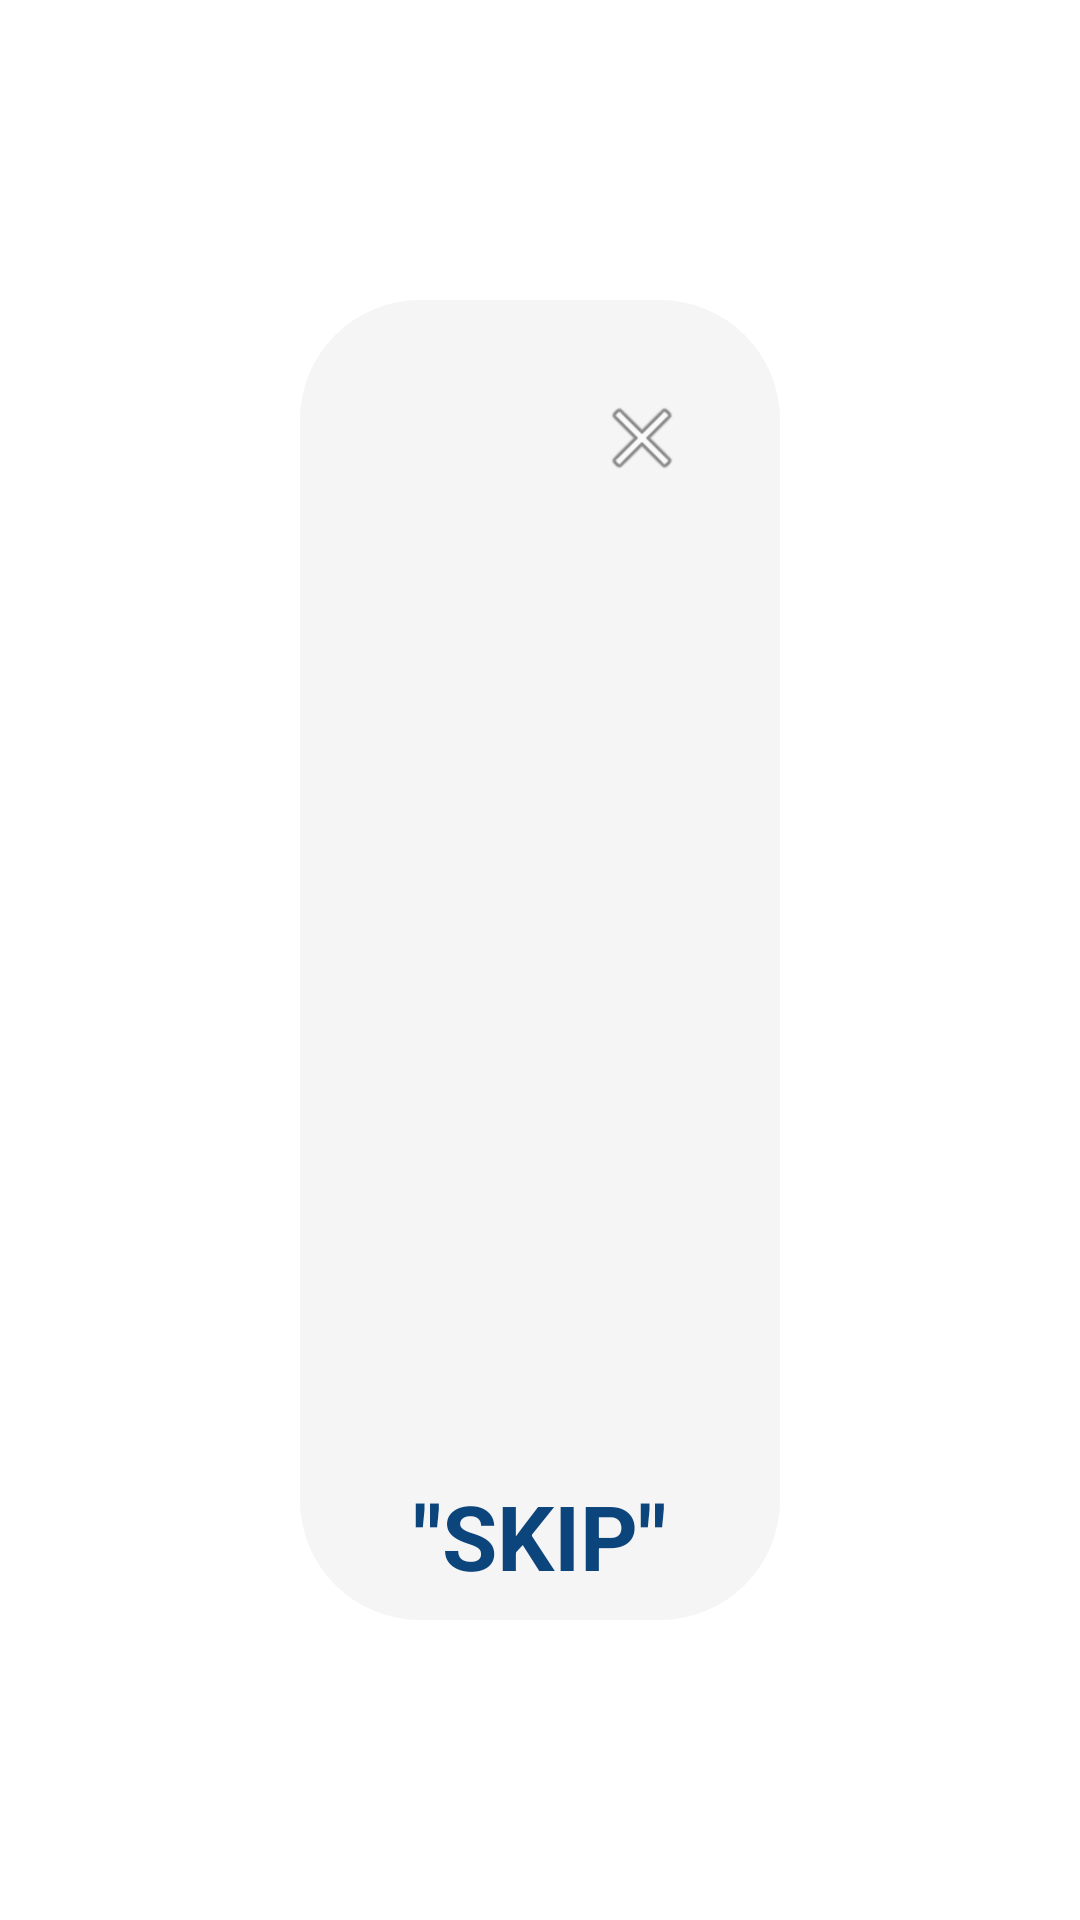

Where to tap for icons on this 1080x1920 app screen, as [x,y]:
close clear cancel: [642,438]
